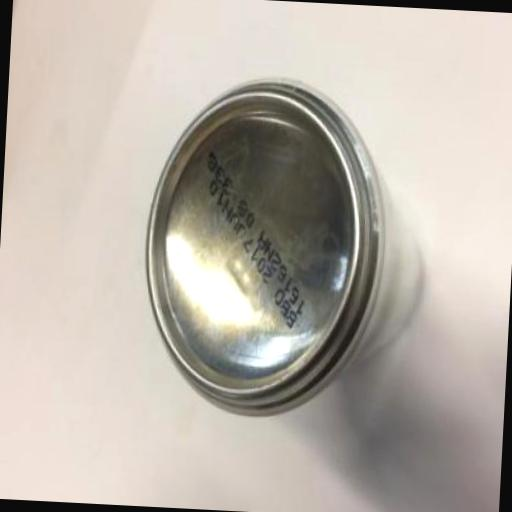metal: (136, 71, 434, 422)
